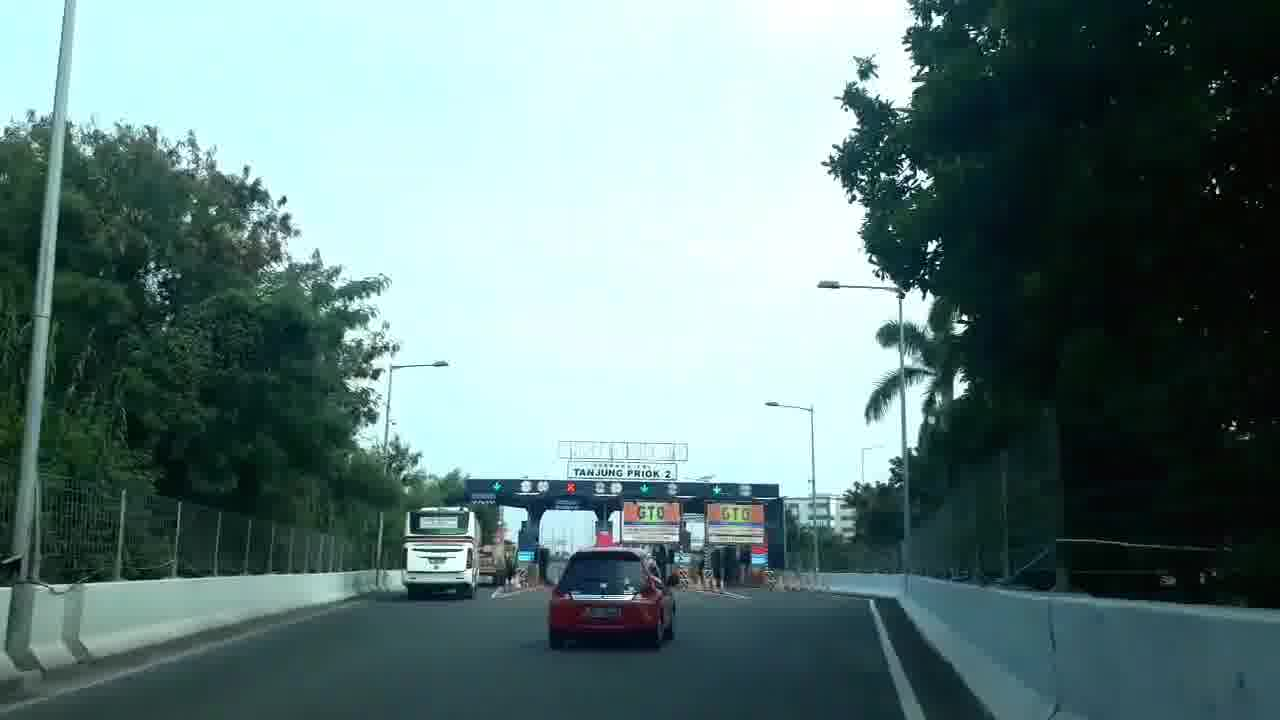plate_positive: (585, 607, 621, 617)
